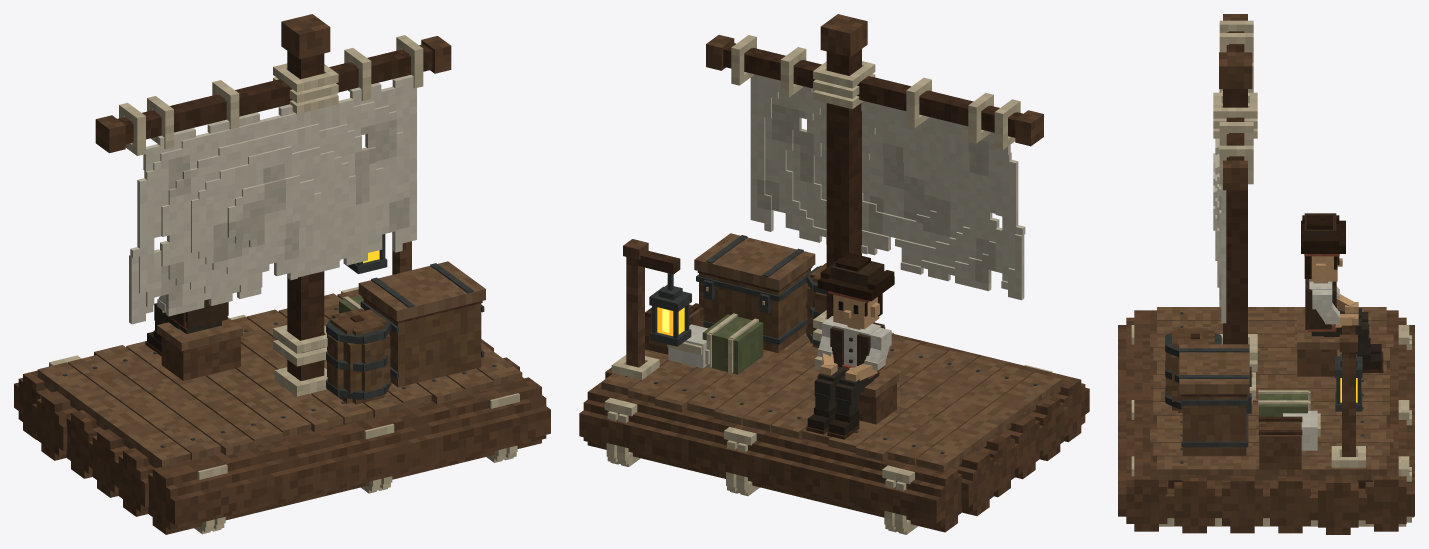
File: seated-raft.glb
The picture shows the model from 3 angles, left to right: view 1: azimuth 30°, elevation 25°; view 2: azimuth 150°, elevation 25°; view 3: azimuth 270°, elevation 25°; orthographic projection. The views are drawn at different scales.
Parts seen in each view (by area): view 1: Voxel timber, sail and seated voyager, Forged metal; view 2: Voxel timber, sail and seated voyager, Forged metal; view 3: Voxel timber, sail and seated voyager, Forged metal.
Boxes of the visible parts, x1,y1,x2,y2 form: Voxel timber, sail and seated voyager: (14,14,550,534); Forged metal: (62,234,496,447); Voxel timber, sail and seated voyager: (579,14,1089,534); Forged metal: (625,235,1037,453); Voxel timber, sail and seated voyager: (1118,14,1414,534); Forged metal: (1165,312,1363,463).
Bounding box in the file's own units: 17.18 × 18.05 × 12.19.
